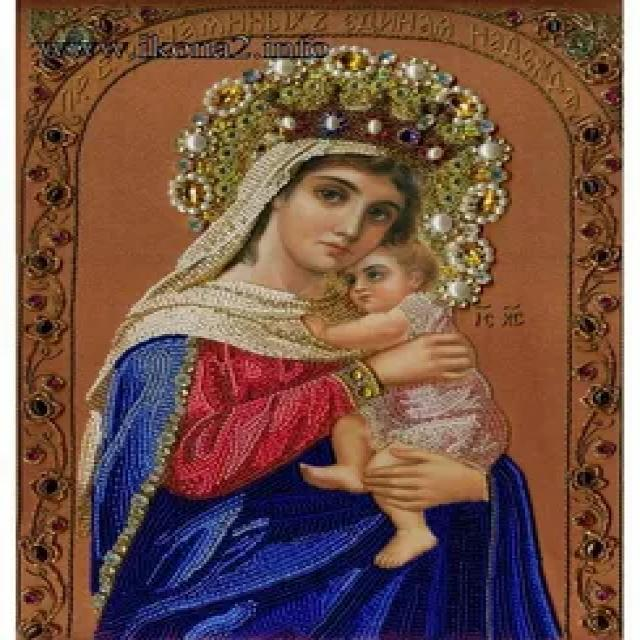mother of god: (87, 83, 582, 640)
